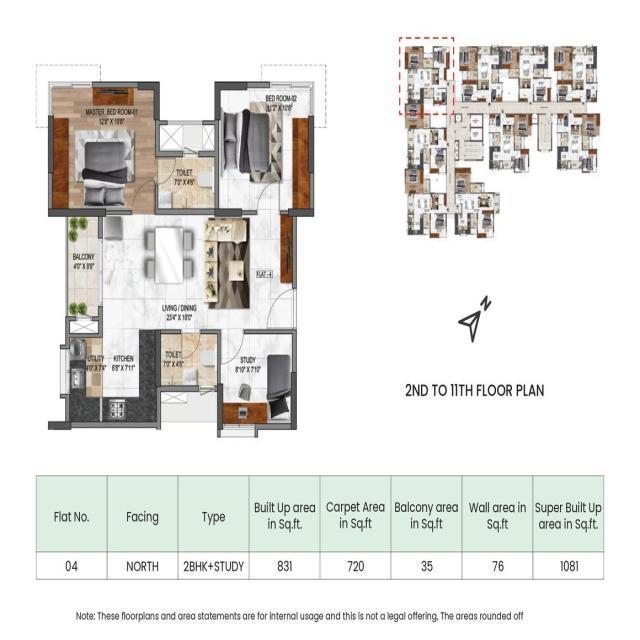Balcony-Sitout: (67, 218, 99, 336)
Bedroom: (221, 92, 311, 207)
Bedroom with Toilet: (51, 86, 217, 210)
Dining: (143, 223, 196, 287)
Enterance-Foyer: (264, 284, 296, 330)
Kitchen: (103, 329, 157, 420)
Living: (198, 216, 295, 329)
Toilet: (161, 334, 217, 386), (158, 161, 214, 207)
Utility: (70, 340, 100, 420)
